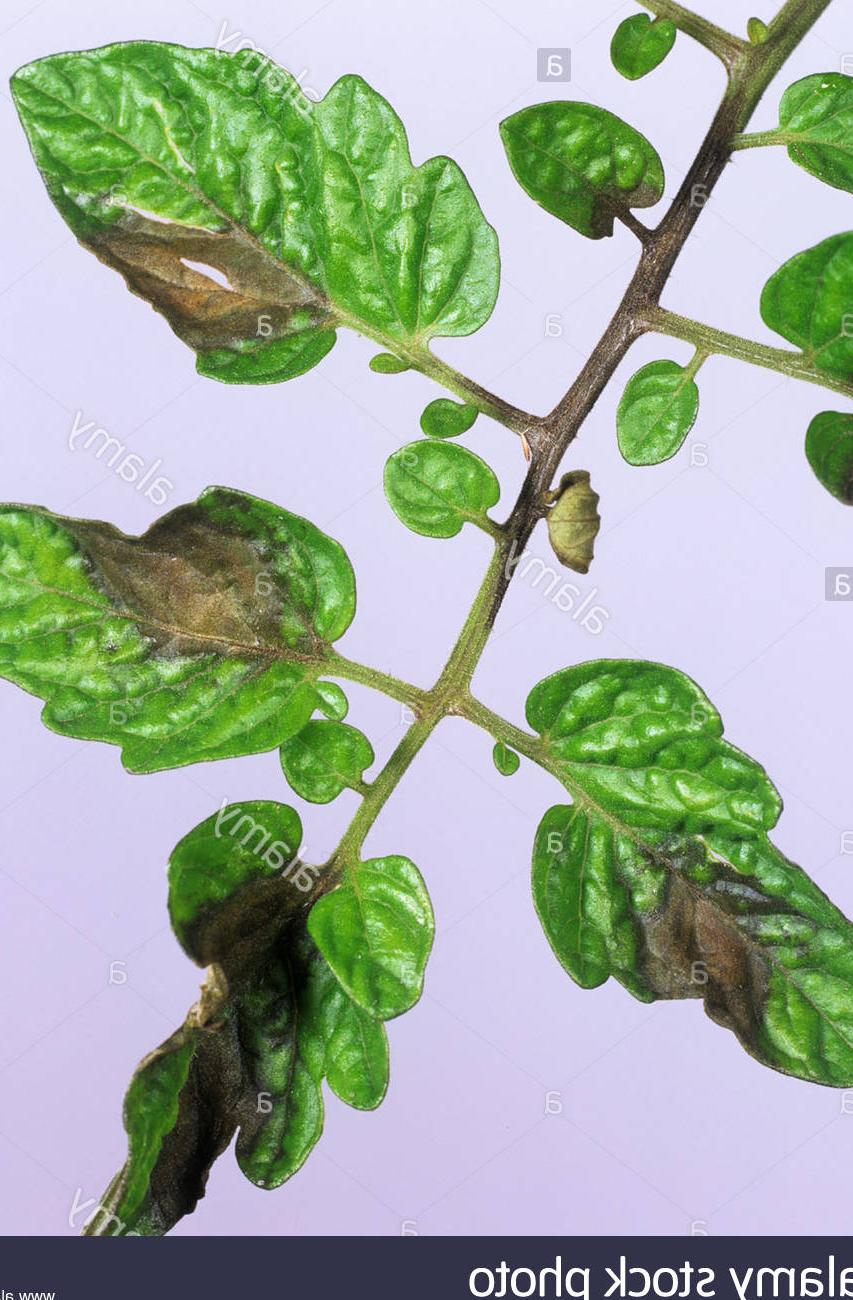Tomato leaf late blight: (0, 13, 508, 394), (497, 640, 853, 1116), (59, 782, 450, 1211), (0, 482, 370, 808)
